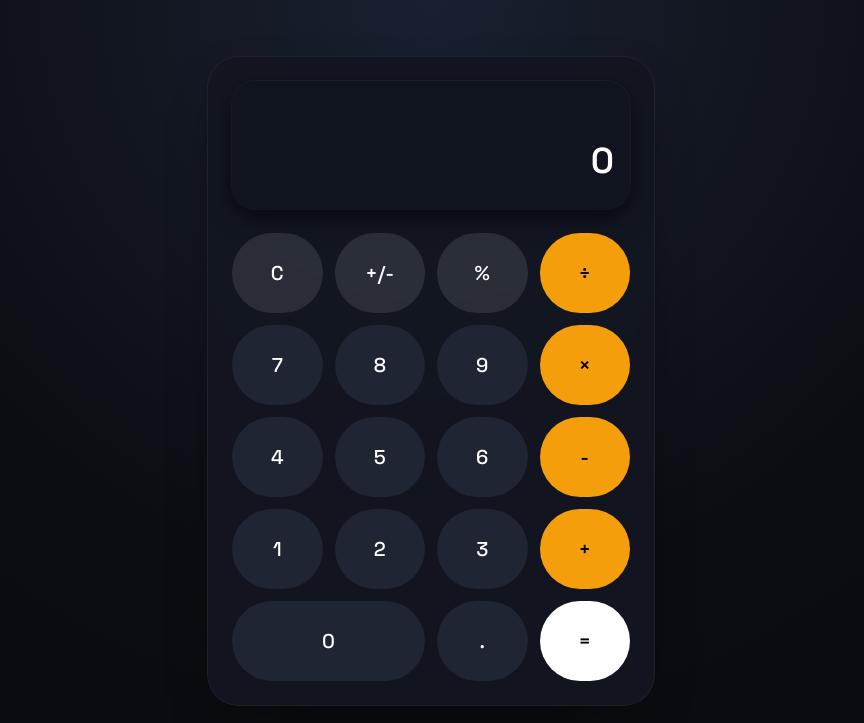
Test: Calculator UI › handles chained operations with precedence
Click the button "2". click: (380, 549)
box: [334,509,425,589]
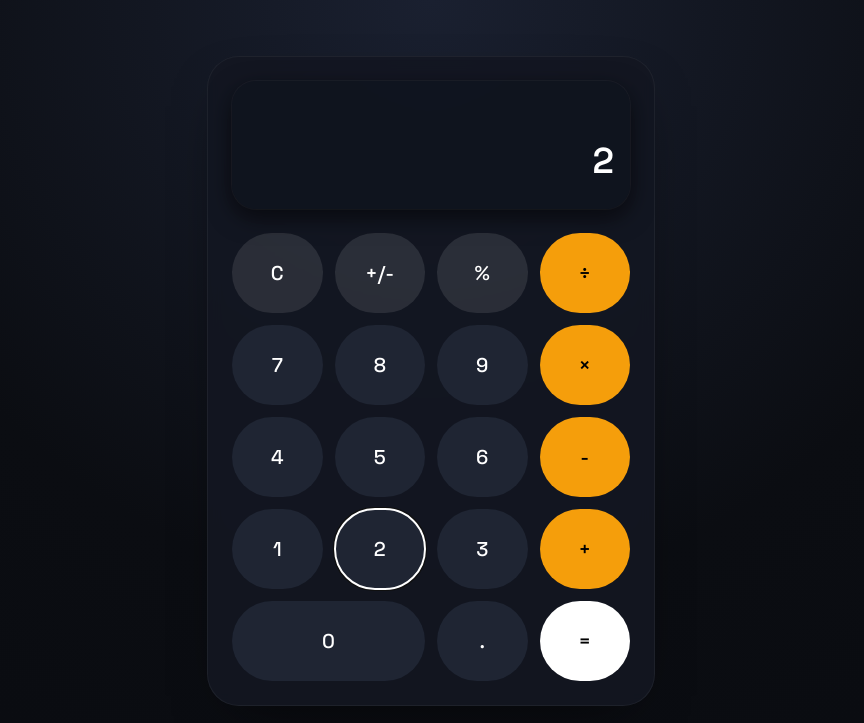
Click the button "+". click: (585, 549)
box: [540,509,630,589]
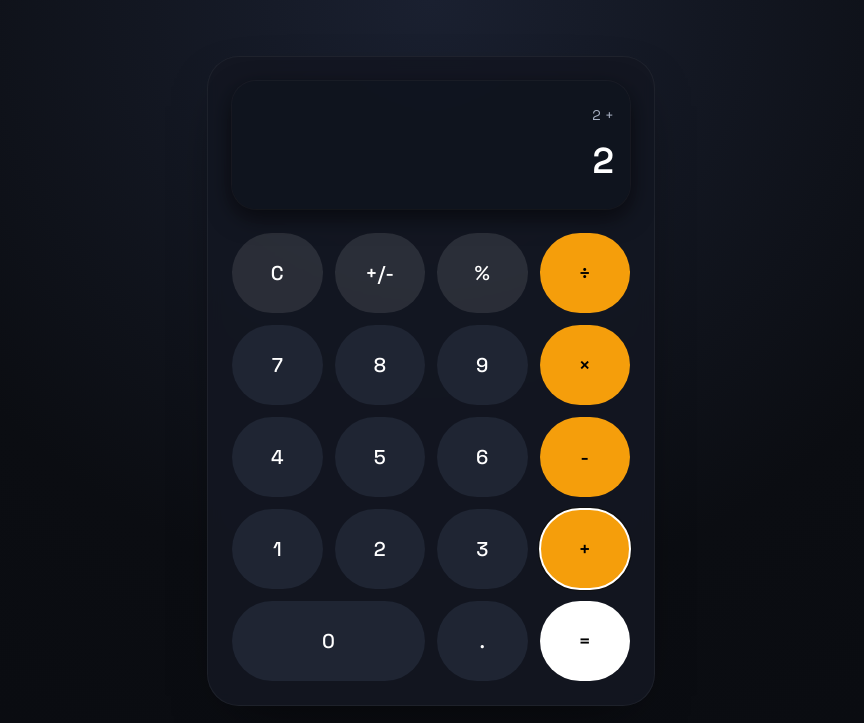
Click the button "3". click: (482, 549)
box: [437,509,528,589]
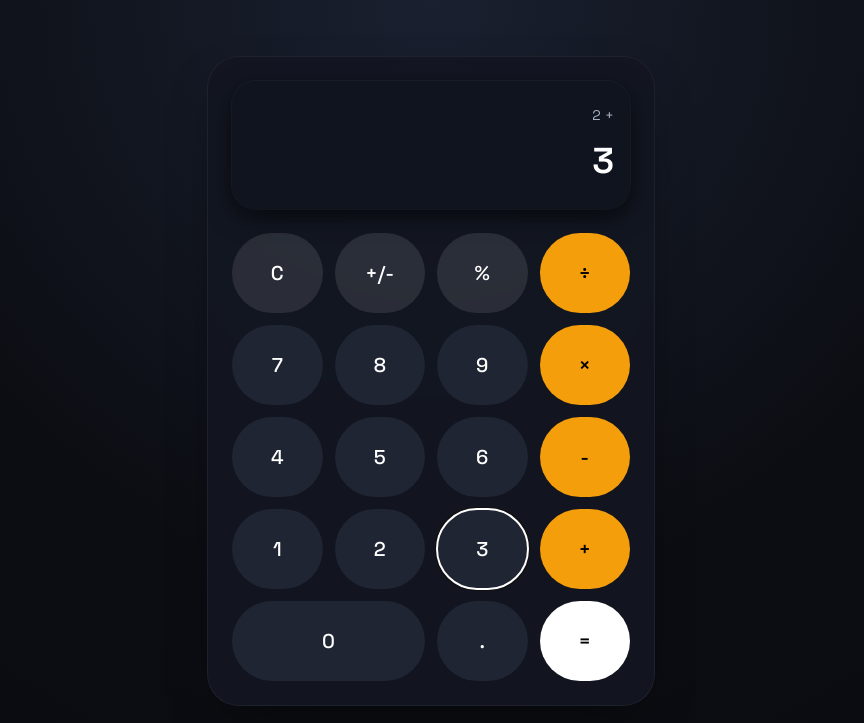
Click the button "×". click: (585, 365)
box: [540,325,630,405]
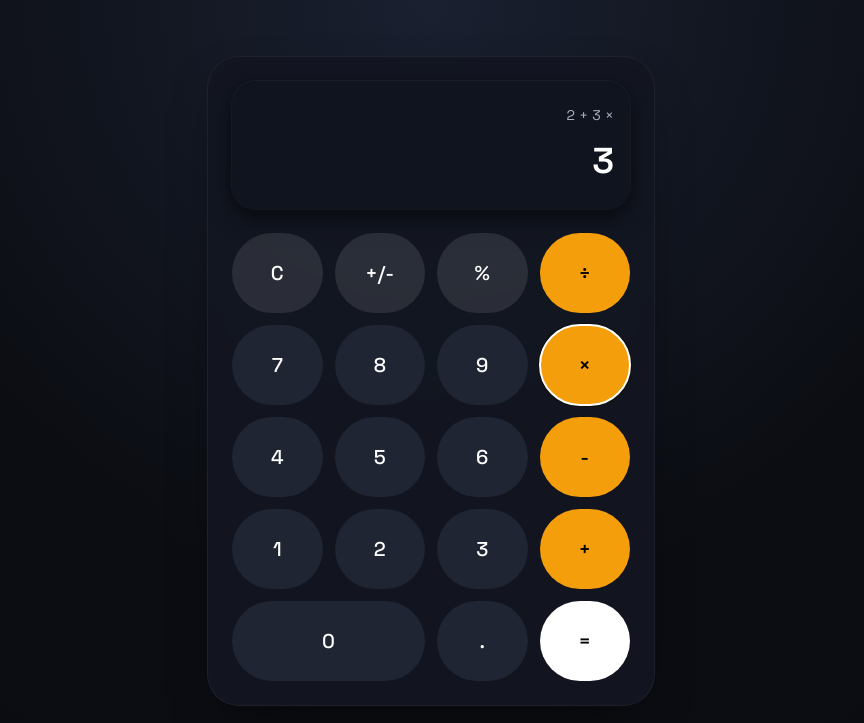
Click the button "4". click: (277, 457)
box: [232,417,322,497]
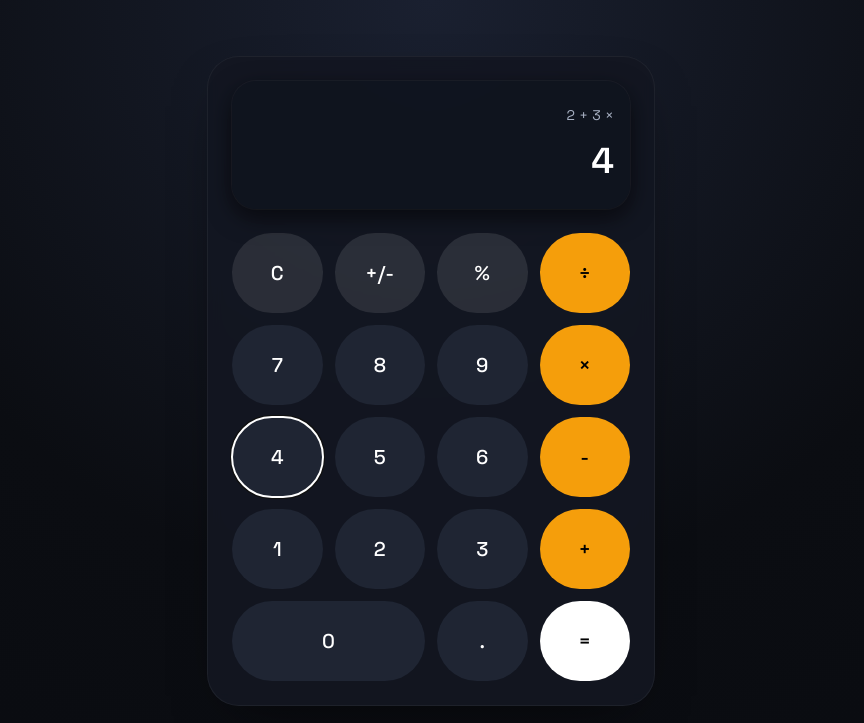
Click the button "=". click: (585, 641)
box: [540,601,630,681]
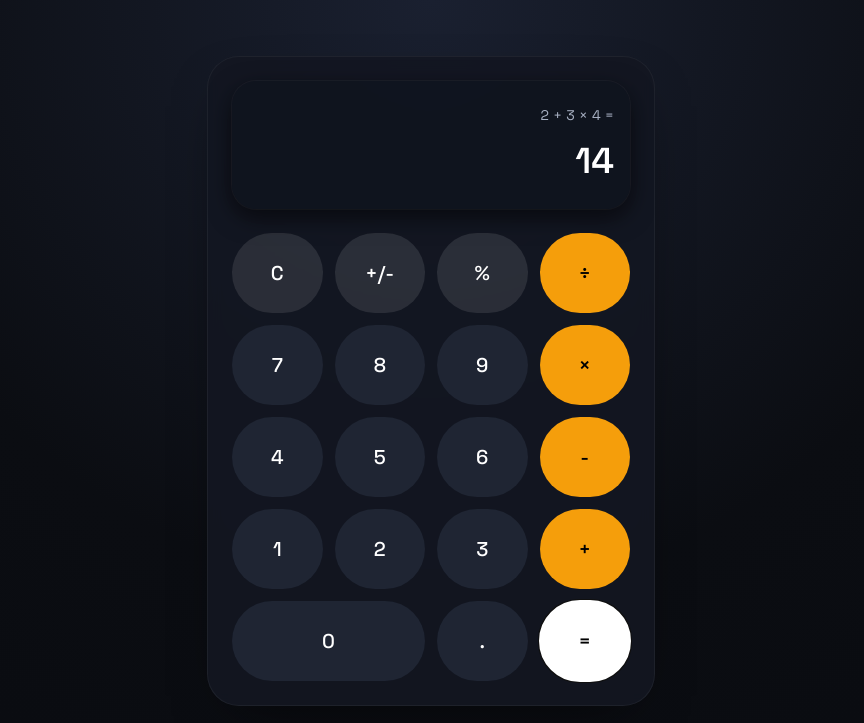
Expected: the text with test id "display" reads "14", [575,138,614,184]
Expected: the text with test id "expression" reads "2 + 3 × 4 =", [540,106,614,124]
